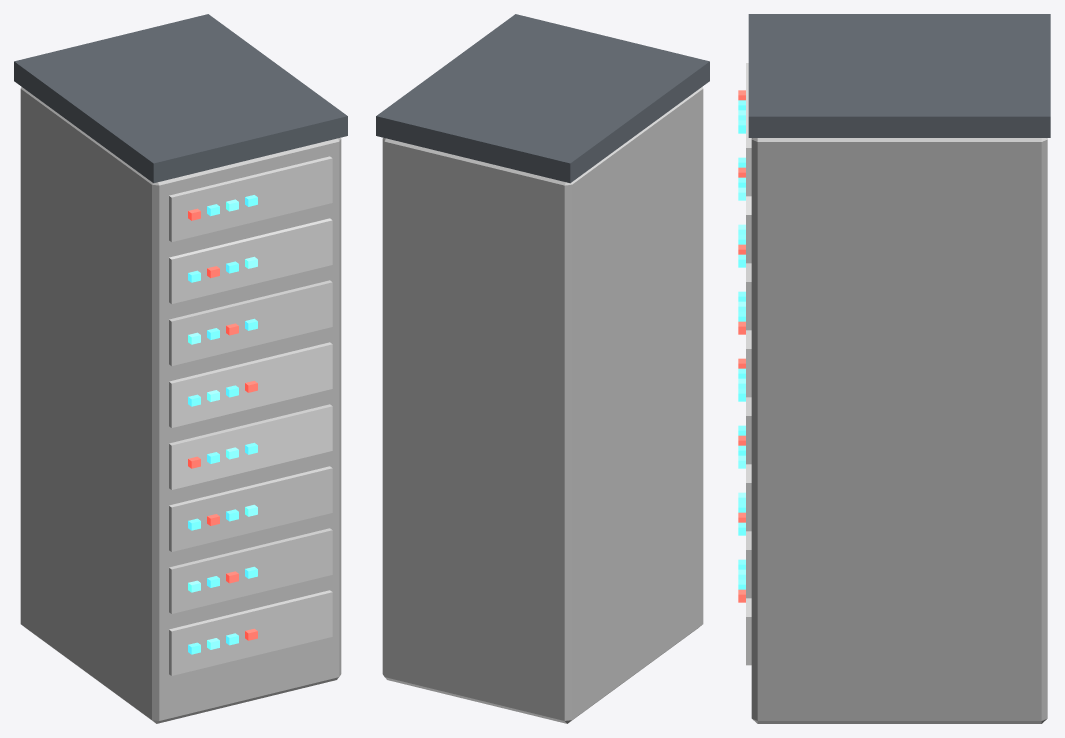
File: Server_Rack.fbx
3 views of the same model, side by side, from view 1: azimuth 30°, elevation 25°; view 2: azimuth 150°, elevation 25°; view 3: azimuth 270°, elevation 25° (orthographic). The views are drawn at different scales.
Parts seen in each view (by area): view 1: Server_Rack; view 2: Server_Rack; view 3: Server_Rack.
Part boxes in pixels (left/top/right/bottom): Server_Rack: left=14, top=14, right=347, bottom=723; Server_Rack: left=376, top=14, right=709, bottom=723; Server_Rack: left=738, top=14, right=1050, bottom=723.
Size of the model in its own units: 0.82 by 2.28 by 1.06.
